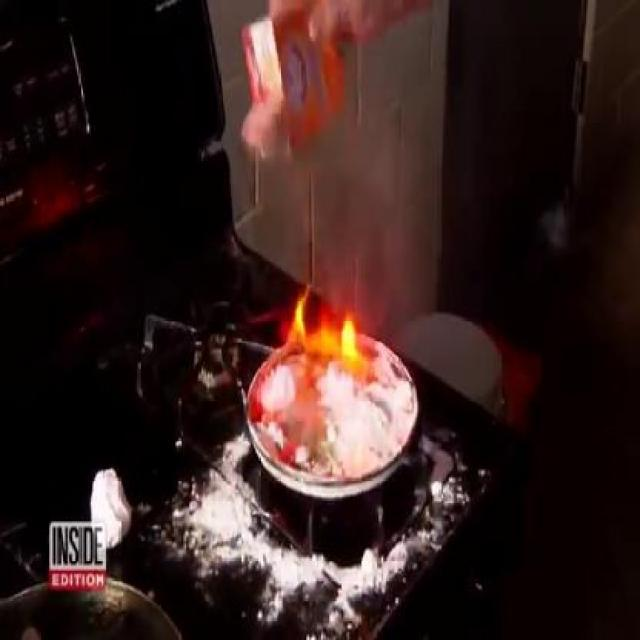fire: (286, 258, 372, 374)
smoke: (336, 176, 409, 256)
